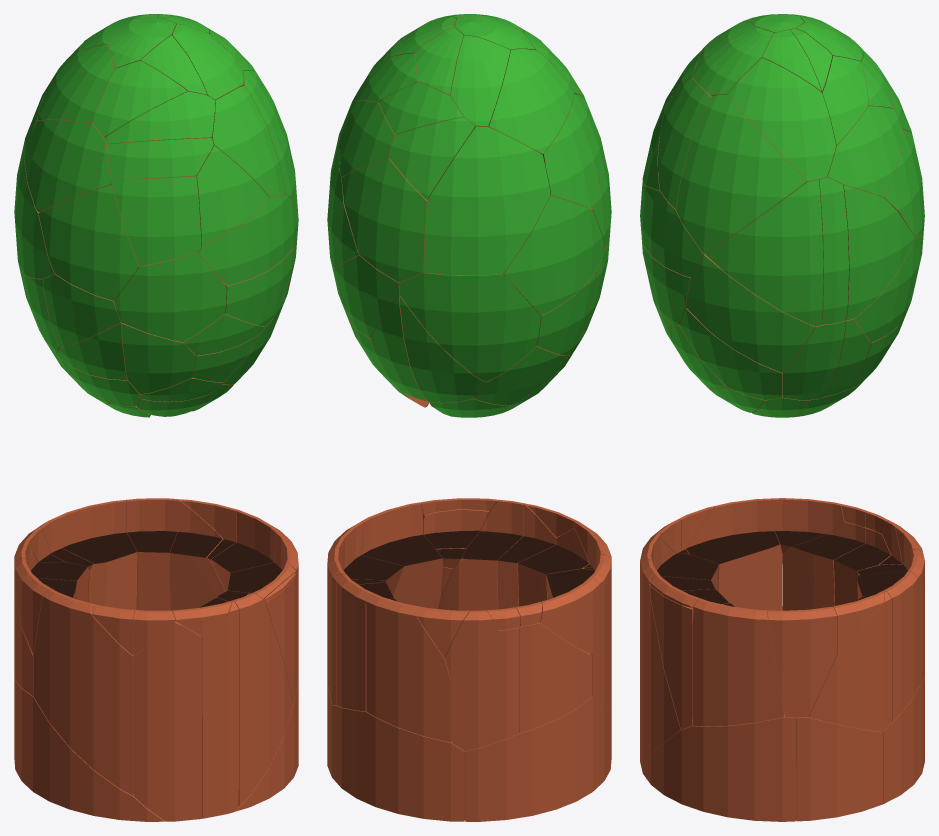
Rendered from potplant_kaputt.glb.
3 views of the same model, side by side, from view 1: azimuth 30°, elevation 25°; view 2: azimuth 150°, elevation 25°; view 3: azimuth 270°, elevation 25° (orthographic).
Visible parts, largest first — view 1: Cylinder_cell, Cylinder_cell.019, Cylinder_cell.039, Cylinder_cell.079, Cylinder_cell.027, Cylinder_cell.066, Cylinder_cell.095, Cylinder_cell.034, Cylinder_cell.077, Cylinder_cell.006, Cylinder_cell.067, Cylinder_cell.023 (+37 smaller); view 2: Cylinder_cell.017, Cylinder_cell.079, Cylinder_cell.074, Cylinder_cell.045, Cylinder_cell.006, Cylinder_cell.052, Cylinder_cell.049, Cylinder_cell.036, Cylinder_cell.069, Cylinder_cell.042, Cylinder_cell.035, Cylinder_cell.039 (+35 smaller); view 3: Cylinder_cell.080, Cylinder_cell.043, Cylinder_cell.035, Cylinder_cell.010, Cylinder_cell.073, Cylinder_cell, Cylinder_cell.065, Cylinder_cell.089, Cylinder_cell.097, Cylinder_cell.098, Cylinder_cell.013, Cylinder_cell.056 (+38 smaller).
Boxes of the visible parts, <box> form: Cylinder_cell: <box>33,588,133,795</box>; Cylinder_cell.019: <box>133,621,201,821</box>; Cylinder_cell.039: <box>199,592,293,806</box>; Cylinder_cell.079: <box>14,673,164,821</box>; Cylinder_cell.027: <box>38,185,138,300</box>; Cylinder_cell.066: <box>201,600,238,818</box>; Cylinder_cell.095: <box>114,252,226,341</box>; Cylinder_cell.034: <box>111,175,201,266</box>; Cylinder_cell.077: <box>24,120,113,212</box>; Cylinder_cell.006: <box>62,500,137,609</box>; Cylinder_cell.067: <box>196,194,297,285</box>; Cylinder_cell.023: <box>126,498,178,610</box>; Cylinder_cell.017: <box>424,126,550,275</box>; Cylinder_cell.079: <box>465,697,611,821</box>; Cylinder_cell.074: <box>332,705,465,821</box>; Cylinder_cell.045: <box>399,272,540,381</box>; Cylinder_cell.006: <box>366,593,451,742</box>; Cylinder_cell.052: <box>341,158,427,282</box>; Cylinder_cell.049: <box>503,195,604,315</box>; Cylinder_cell.036: <box>451,627,519,751</box>; Cylinder_cell.069: <box>519,622,592,732</box>; Cylinder_cell.042: <box>488,49,573,153</box>; Cylinder_cell.035: <box>361,502,442,608</box>; Cylinder_cell.039: <box>438,499,524,611</box>; Cylinder_cell.080: <box>641,713,796,821</box>; Cylinder_cell.043: <box>676,94,806,253</box>; Cylinder_cell.035: <box>692,598,783,726</box>; Cylinder_cell.010: <box>705,179,823,326</box>; Cylinder_cell.073: <box>796,717,882,821</box>; Cylinder_cell: <box>685,498,782,610</box>; Cylinder_cell.065: <box>728,58,836,181</box>; Cylinder_cell.089: <box>686,253,814,372</box>; Cylinder_cell.097: <box>808,590,891,731</box>; Cylinder_cell.098: <box>843,185,914,320</box>; Cylinder_cell.013: <box>767,606,837,717</box>; Cylinder_cell.056: <box>826,106,902,196</box>.
Size of the model in its own units: 1 by 2.86 by 1.
